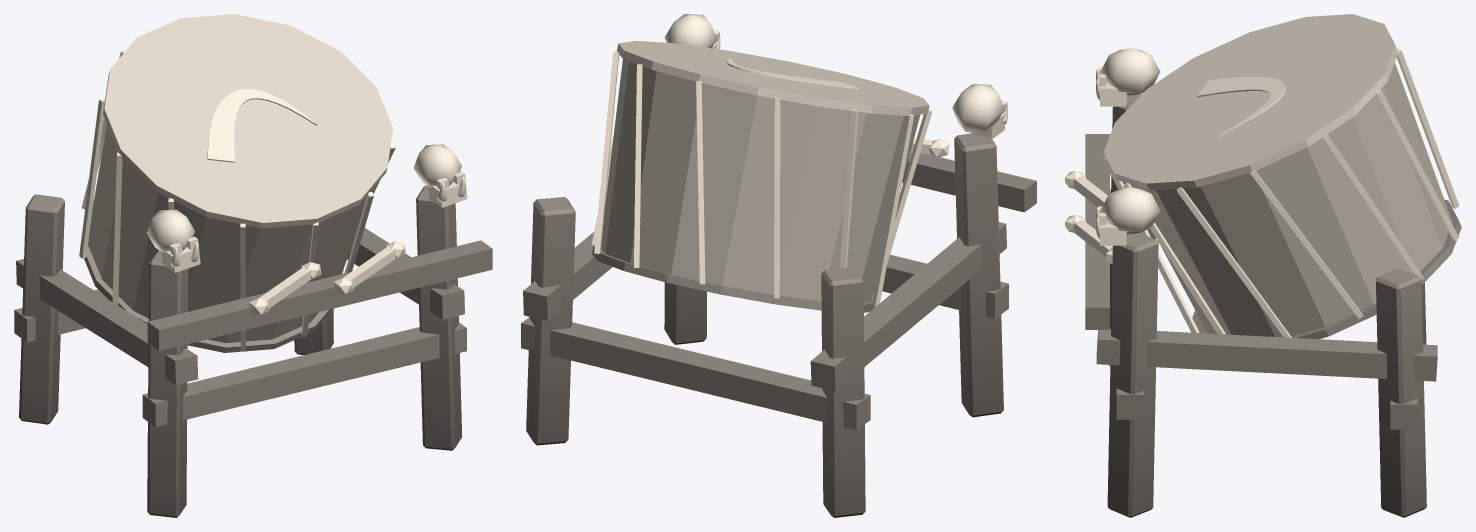
The model's file is SM_VKI_Prop_Orc_WarDrum.fbx.
3 renders of one model, left to right at view 1: azimuth 30°, elevation 25°; view 2: azimuth 150°, elevation 25°; view 3: azimuth 270°, elevation 25°, orthographic. The views are drawn at different scales.
Visible parts, largest first — view 1: SM_VKI_Prop_Orc_WarDrum.001; view 2: SM_VKI_Prop_Orc_WarDrum.001; view 3: SM_VKI_Prop_Orc_WarDrum.001.
Boxes of the visible parts, bbox=[...] form: SM_VKI_Prop_Orc_WarDrum.001: bbox=[14, 14, 492, 517]; SM_VKI_Prop_Orc_WarDrum.001: bbox=[521, 14, 1036, 517]; SM_VKI_Prop_Orc_WarDrum.001: bbox=[1065, 14, 1461, 517].
Bounding box in the file's own units: 1.5 × 1.58 × 1.45.
